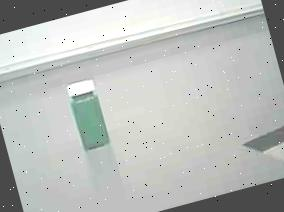Bottle C: (53, 70, 120, 154)
